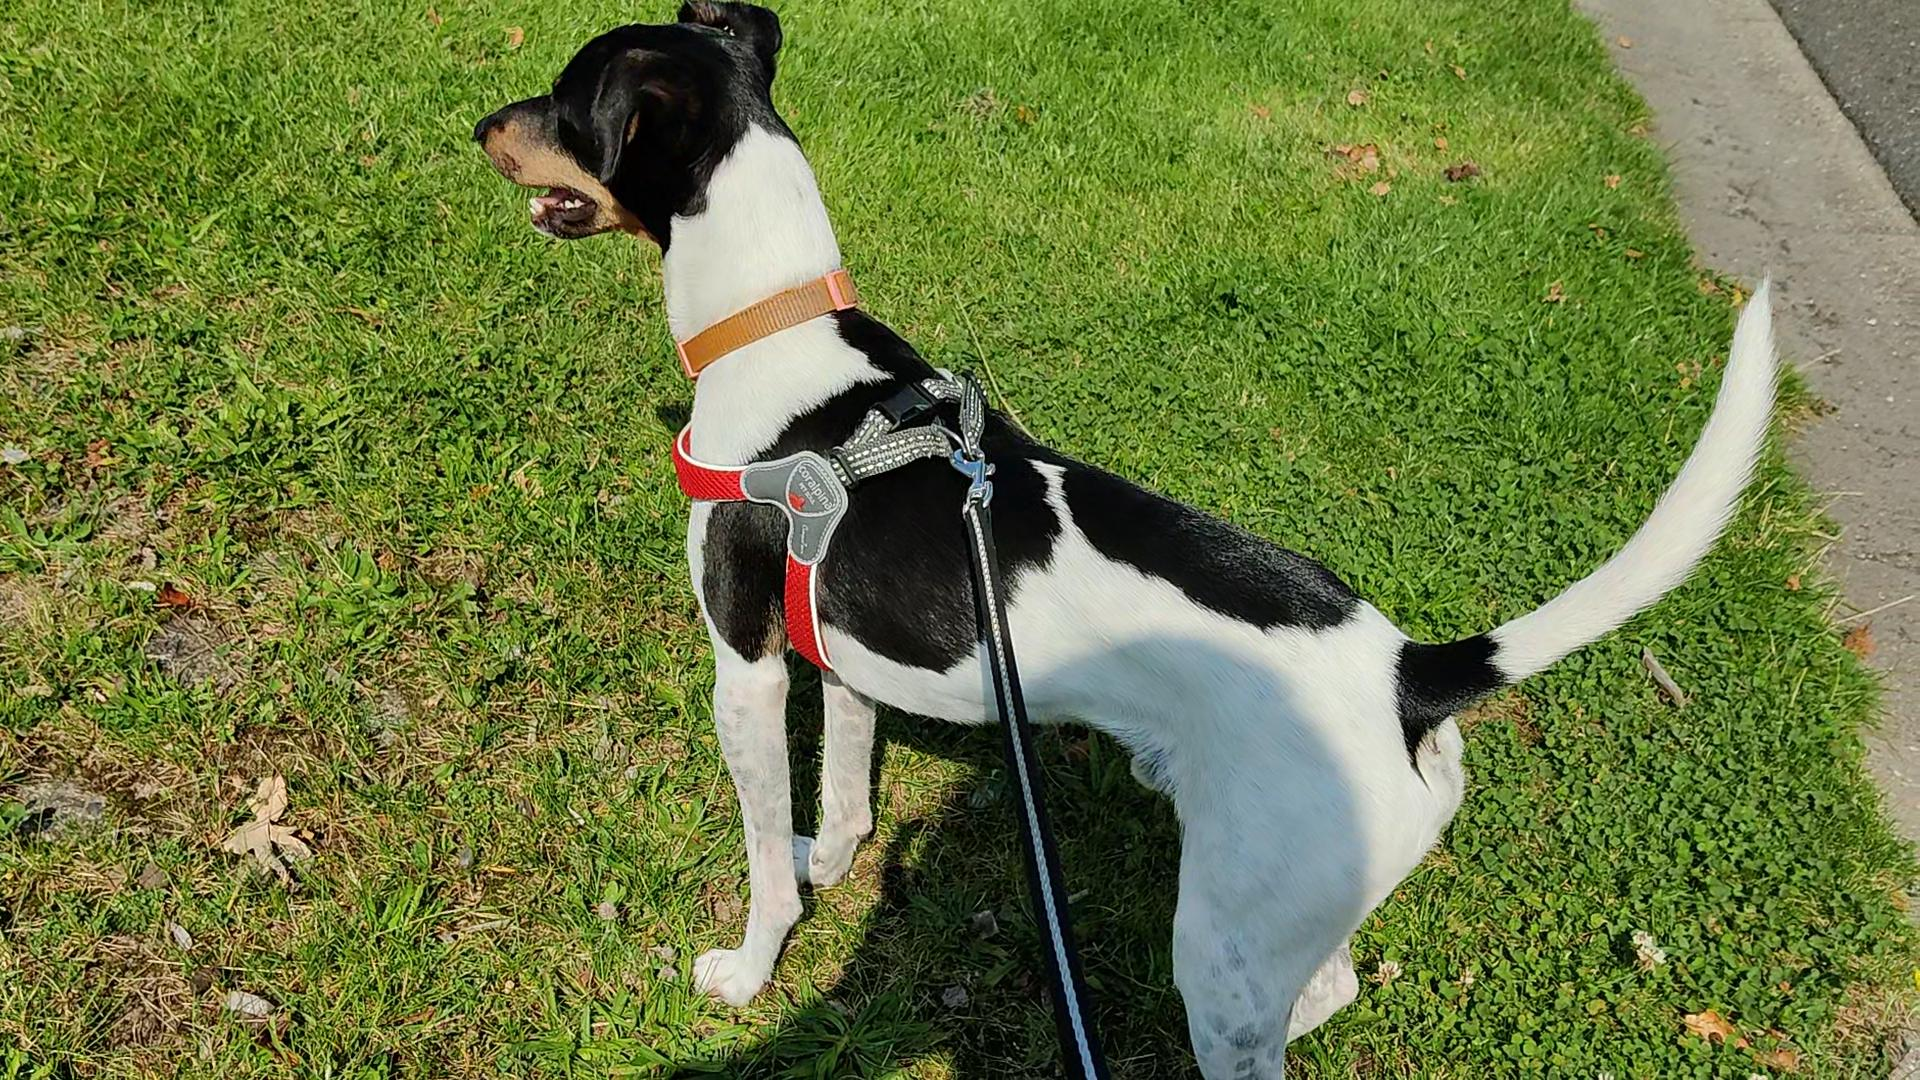Dog: (463, 0, 1789, 1079)
